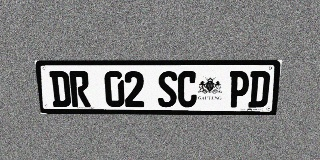0: (104, 71, 125, 107)
2: (124, 71, 144, 107)
C: (178, 71, 198, 107)
D: (248, 71, 271, 108), (49, 71, 71, 107)
P: (228, 71, 250, 107)
R: (69, 71, 91, 107)
S: (158, 71, 177, 107)
